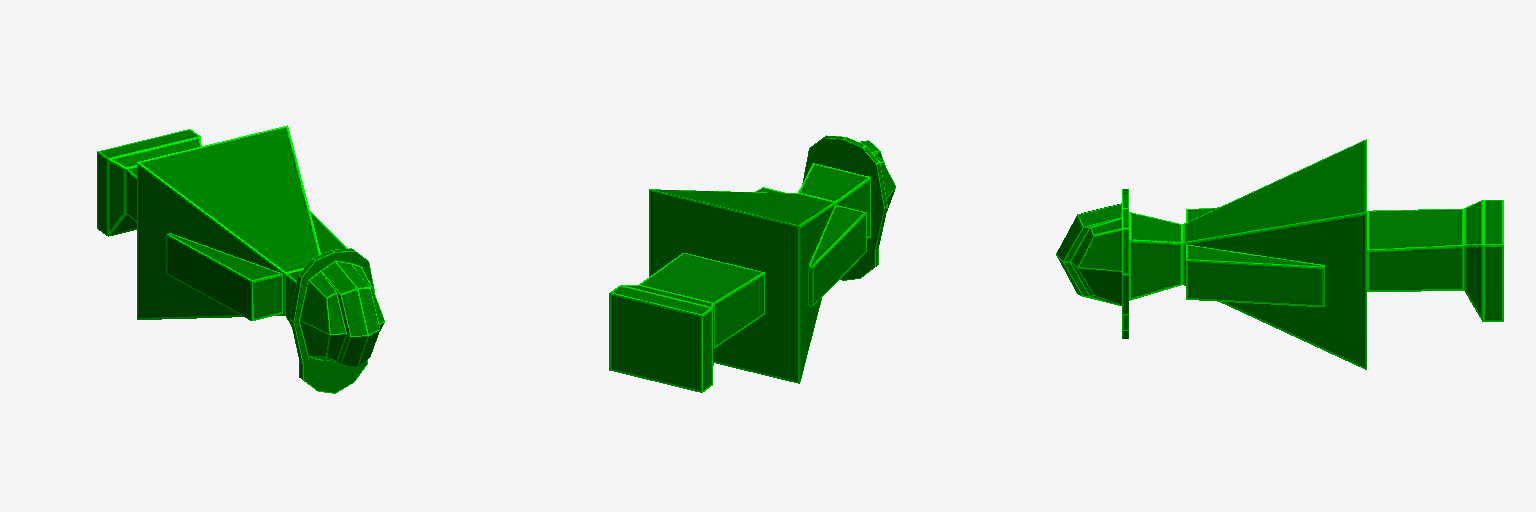
3 renders of one model, left to right at view 1: azimuth 30°, elevation 25°; view 2: azimuth 150°, elevation 25°; view 3: azimuth 270°, elevation 25°, orthographic.
Visible parts, largest first — view 1: asdfsadf6 polySurface66 polySurface70 polySurface71, polySurface71, asdfsadf6 polySurface66 polySurface67 polySurface71, asdfsadf6 polySurface66 polySurface69 polySurface71, asdfsadf6 polySurface66 polySurface68 polySurface71; view 2: asdfsadf6 polySurface66 polySurface70 polySurface71, asdfsadf6 polySurface66 polySurface69 polySurface71, polySurface71, asdfsadf6 polySurface66 polySurface67 polySurface71; view 3: asdfsadf6 polySurface66 polySurface70 polySurface71, asdfsadf6 polySurface66 polySurface69 polySurface71, asdfsadf6 polySurface66 polySurface68 polySurface71, polySurface71.
Boxes of the visible parts, x1,y1,x2,y2 form: asdfsadf6 polySurface66 polySurface70 polySurface71: [137, 125, 320, 326]; polySurface71: [290, 248, 384, 393]; asdfsadf6 polySurface66 polySurface67 polySurface71: [166, 233, 282, 320]; asdfsadf6 polySurface66 polySurface69 polySurface71: [97, 129, 201, 236]; asdfsadf6 polySurface66 polySurface68 polySurface71: [310, 211, 347, 253]; asdfsadf6 polySurface66 polySurface70 polySurface71: [649, 163, 870, 383]; asdfsadf6 polySurface66 polySurface69 polySurface71: [609, 253, 764, 392]; polySurface71: [802, 135, 895, 280]; asdfsadf6 polySurface66 polySurface67 polySurface71: [808, 205, 866, 306]; asdfsadf6 polySurface66 polySurface70 polySurface71: [1129, 139, 1366, 369]; asdfsadf6 polySurface66 polySurface69 polySurface71: [1367, 200, 1503, 321]; asdfsadf6 polySurface66 polySurface68 polySurface71: [1186, 244, 1324, 306]; polySurface71: [1056, 189, 1128, 338].
Bounding box in the file's own units: 2.67 × 2.71 × 6.85.
Materials: 2 (2 with a texture image).